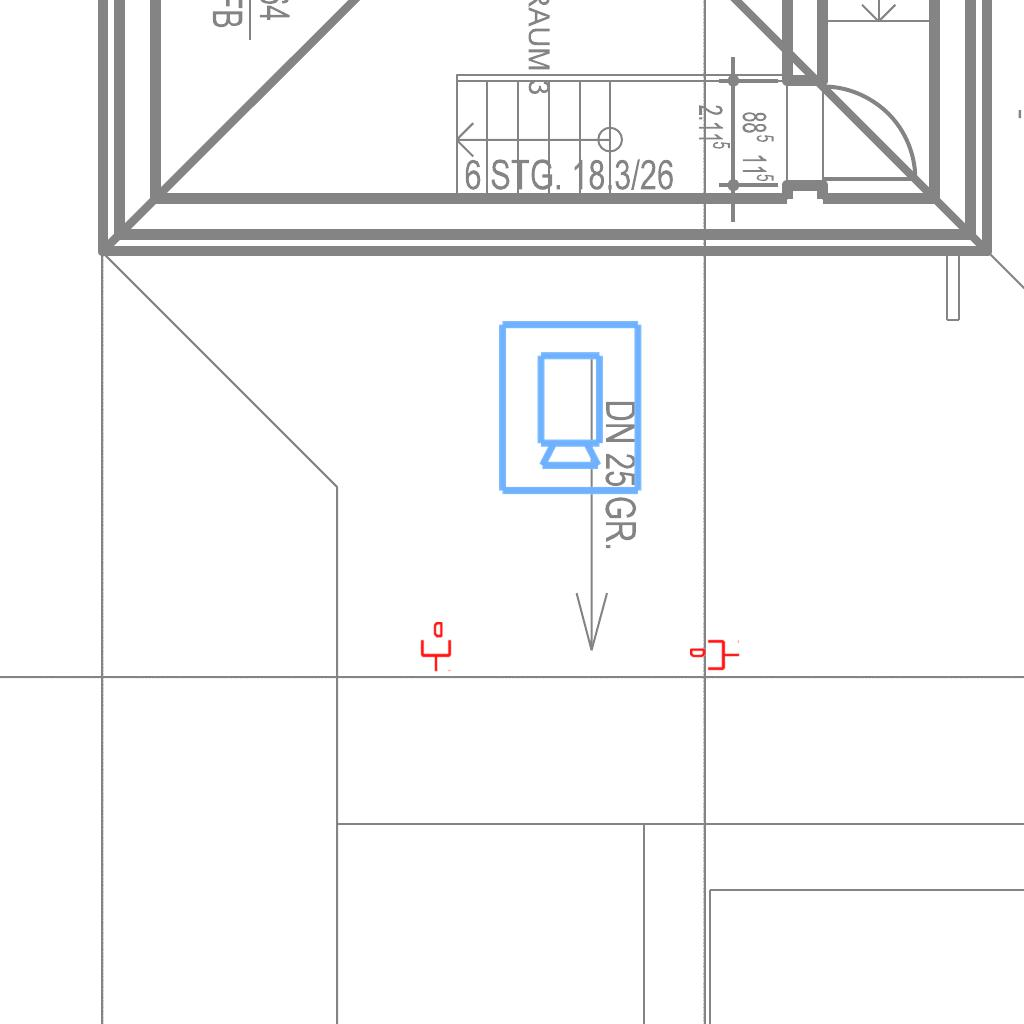Datenanschluss_einfach: (690, 638, 740, 672), (419, 622, 453, 672)
KFO_Kamera_mit_Festobjektiv: (492, 316, 646, 498)
